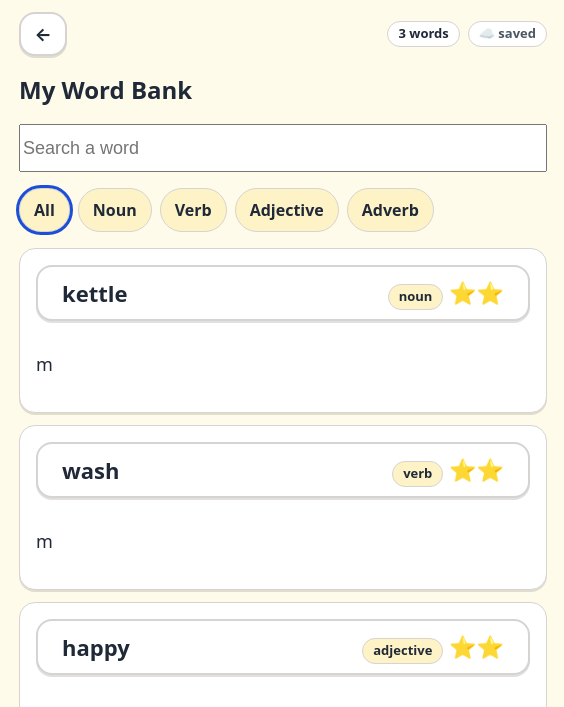
Test: Bank page › shows the child's own sentence when a word is opened
Click the button "kettle noun ⭐⭐" at (95, 292), box [36,265,530,321]
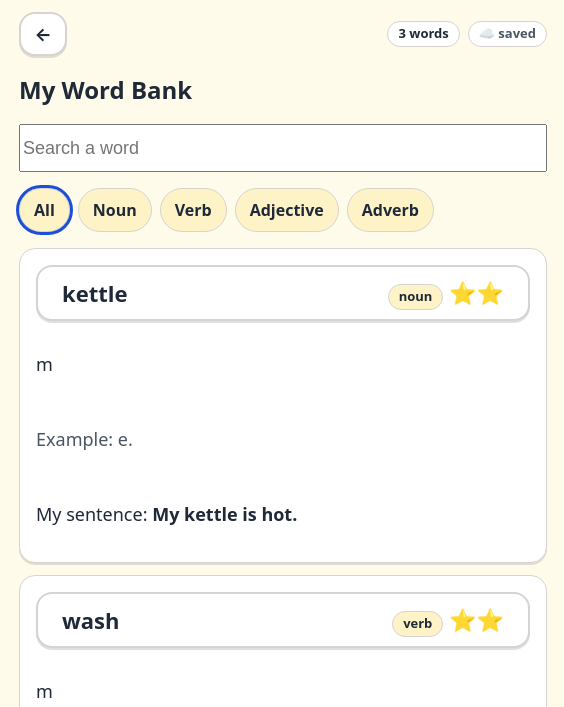
Expected: the text "My kettle is hot." is shown, [152,502,297,526]
